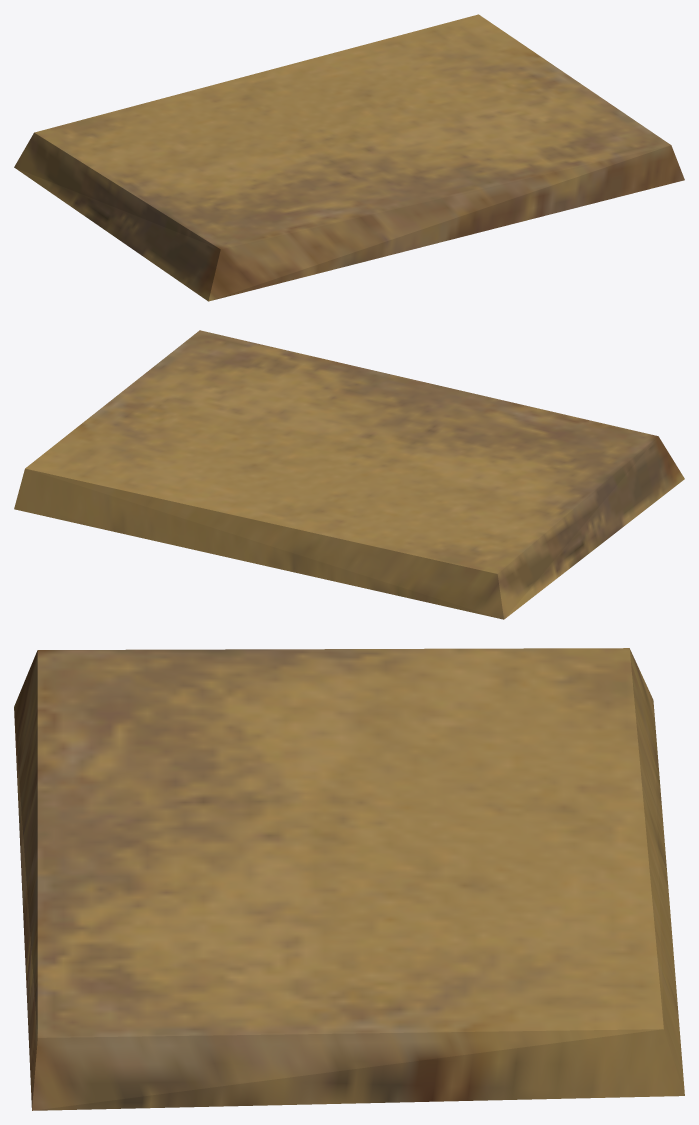
File: common_shamo_zhuankuai02.FBX
3 views of the same model, one above another, from view 1: azimuth 30°, elevation 25°; view 2: azimuth 150°, elevation 25°; view 3: azimuth 270°, elevation 25° (orthographic). The views are drawn at different scales.
Parts seen in each view (by area): view 1: common_shamo_zhuankuai02; view 2: common_shamo_zhuankuai02; view 3: common_shamo_zhuankuai02.
Part boxes in pixels (bbox=[...]): common_shamo_zhuankuai02: bbox=[14, 14, 684, 301]; common_shamo_zhuankuai02: bbox=[14, 330, 684, 619]; common_shamo_zhuankuai02: bbox=[14, 648, 684, 1110].
Size of the model in its own units: 2.47 by 0.2045 by 1.71.
